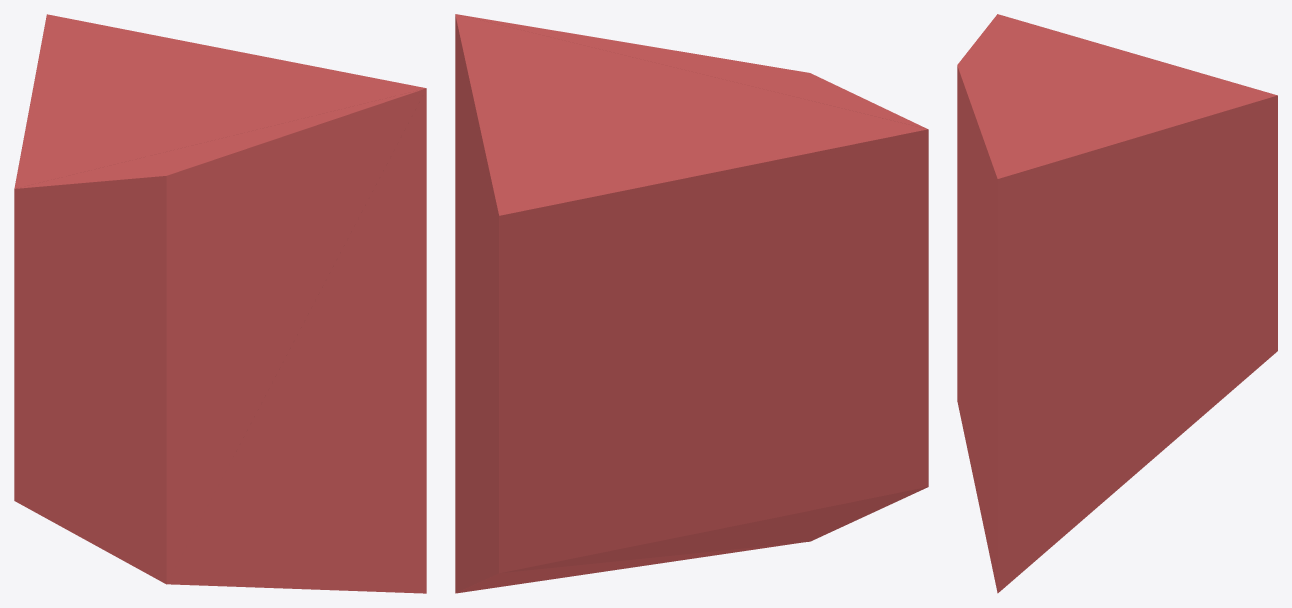
3 renders of one model, left to right at view 1: azimuth 30°, elevation 25°; view 2: azimuth 150°, elevation 25°; view 3: azimuth 270°, elevation 25°, orthographic. The views are drawn at different scales.
Visible parts, largest first — view 1: kb3_a_col; view 2: kb3_a_col; view 3: kb3_a_col.
Boxes of the visible parts, box(x1,y1,x2,y2) form: kb3_a_col: box(14, 14, 426, 593); kb3_a_col: box(455, 14, 928, 593); kb3_a_col: box(957, 14, 1277, 593).
Bounding box in the file's own units: 2.23 × 2.61 × 1.83.
